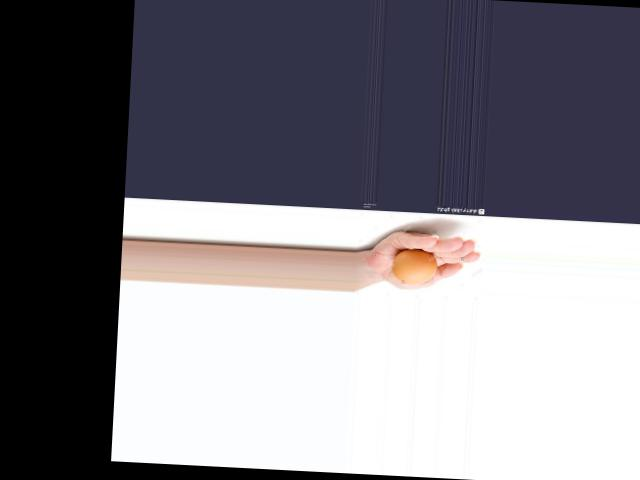egg: (390, 248, 437, 285)
